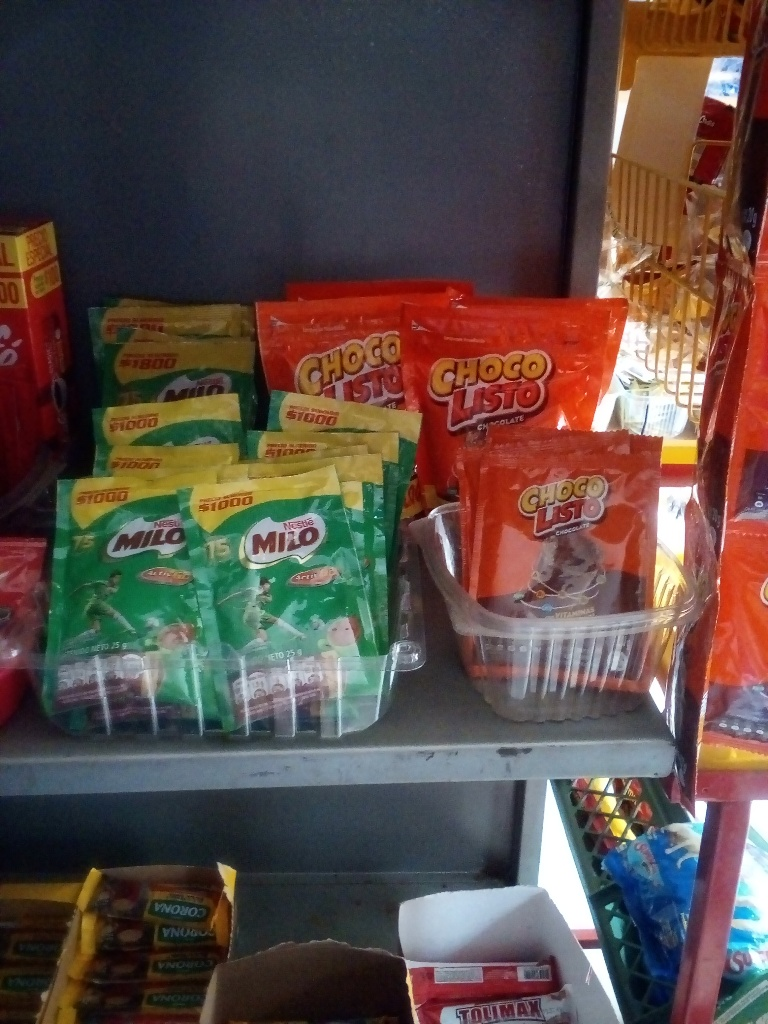COL0170103SOB02000: (463, 422, 657, 705)
